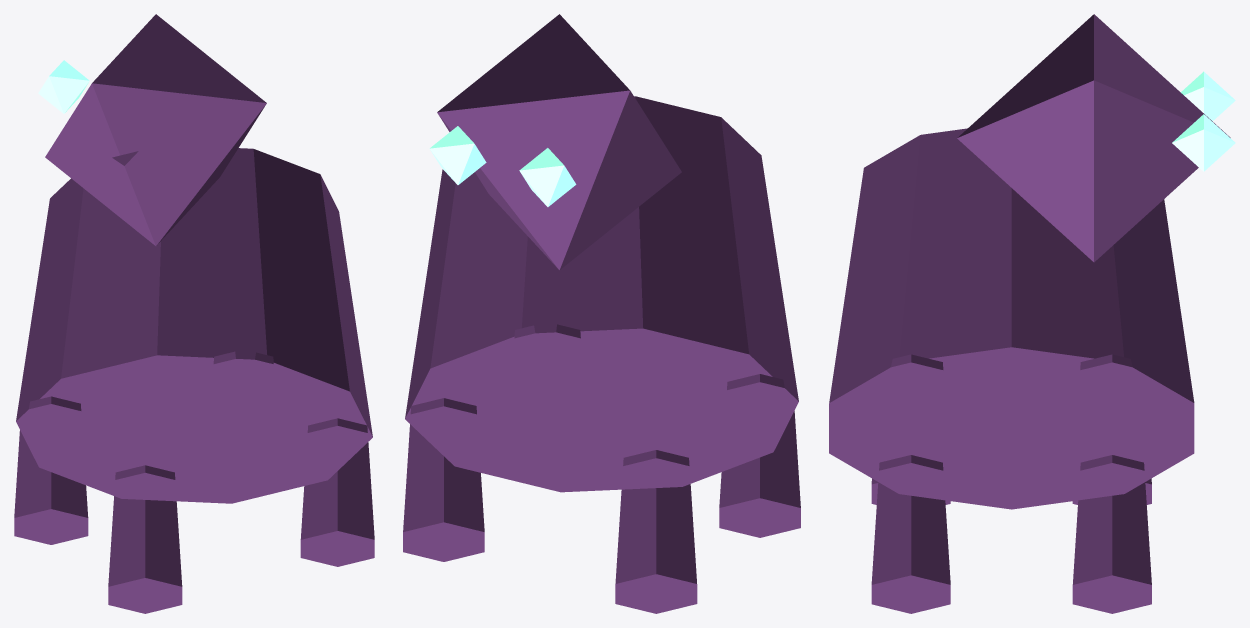
The model's file is creature.glb.
3 renders of one model, left to right at view 1: azimuth 30°, elevation 25°; view 2: azimuth 150°, elevation 25°; view 3: azimuth 270°, elevation 25°, orthographic. The views are drawn at different scales.
Visible parts, largest first — view 1: creature; view 2: creature; view 3: creature.
Part boxes in pixels (x1,y1,x2,y2): creature: (14,14,374,613); creature: (403,14,800,613); creature: (829,14,1235,613).
Bounding box in the file's own units: 0.84 × 1.28 × 0.8894.
